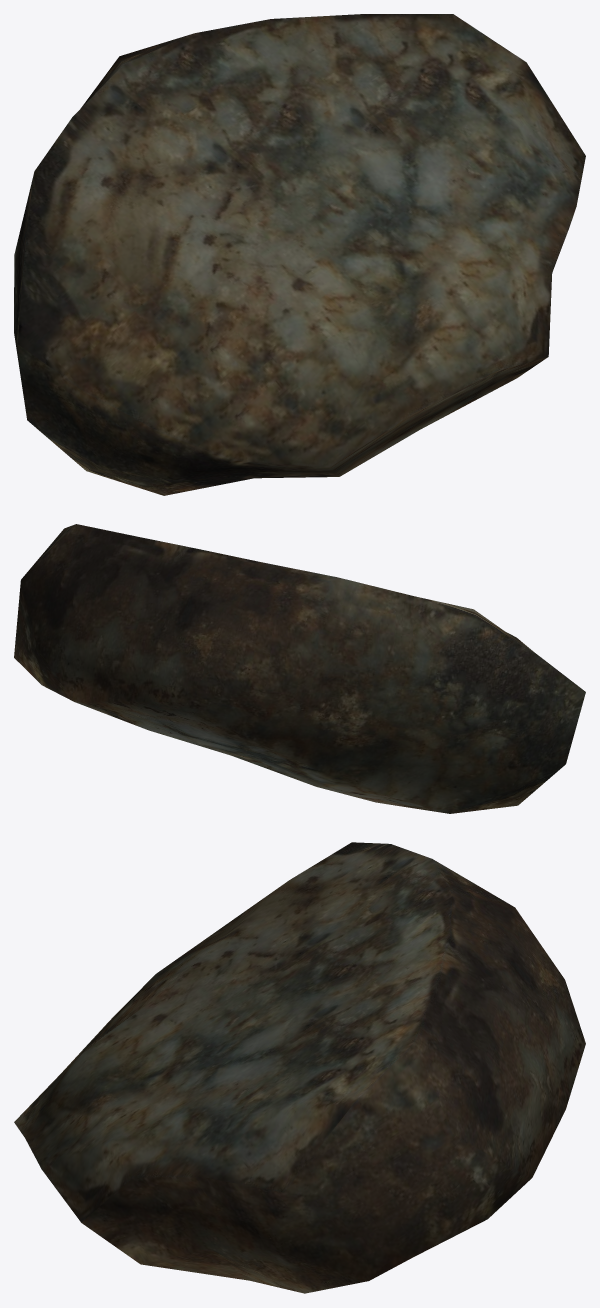
The picture shows the model from 3 angles, top to bottom: view 1: azimuth 30°, elevation 25°; view 2: azimuth 150°, elevation 25°; view 3: azimuth 270°, elevation 25°; orthographic projection. The views are drawn at different scales.
Parts seen in each view (by area): view 1: small_rock_03; view 2: small_rock_03; view 3: small_rock_03.
Boxes of the visible parts, bbox=[...] form: small_rock_03: bbox=[14, 14, 585, 495]; small_rock_03: bbox=[14, 524, 585, 813]; small_rock_03: bbox=[14, 842, 585, 1293].
Size of the model in its own units: 1.13 by 0.6046 by 0.9194.
1 material, 1 textured.
